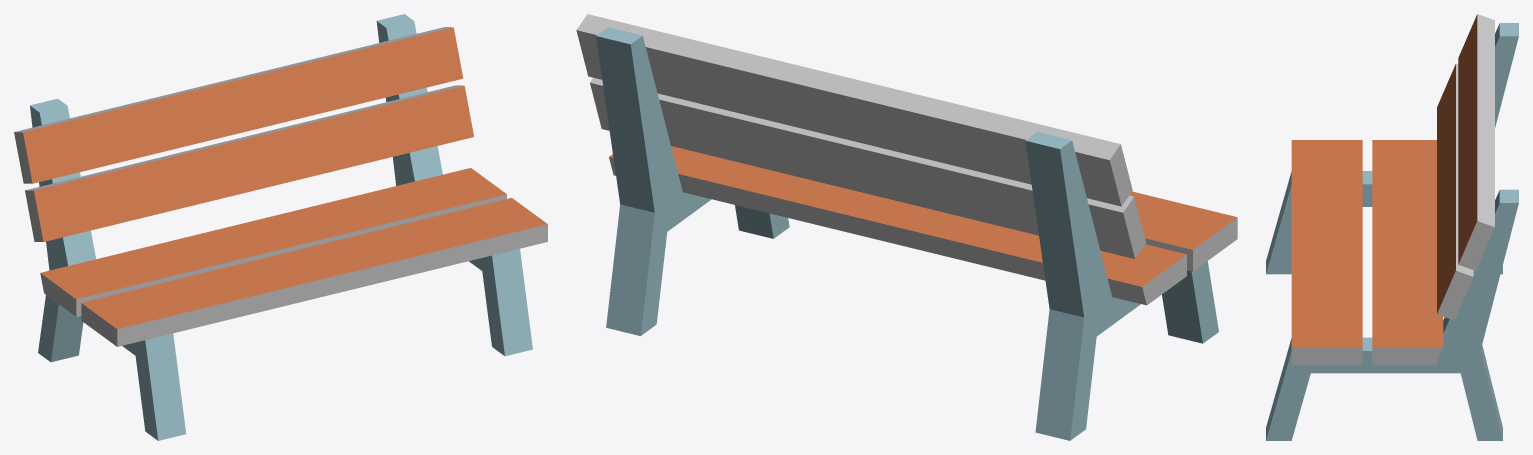
Rendered from bench.obj.
3 renders of one model, left to right at view 1: azimuth 30°, elevation 25°; view 2: azimuth 150°, elevation 25°; view 3: azimuth 270°, elevation 25°, orthographic. The views are drawn at different scales.
Parts seen in each view (by area): view 1: bench; view 2: bench; view 3: bench.
Part boxes in pixels (x1,y1,x2,y2): bench: (14, 14, 547, 440); bench: (576, 14, 1237, 440); bench: (1266, 14, 1518, 440).
Bounding box in the file's own units: 0.606 × 0.3248 × 0.3129.
